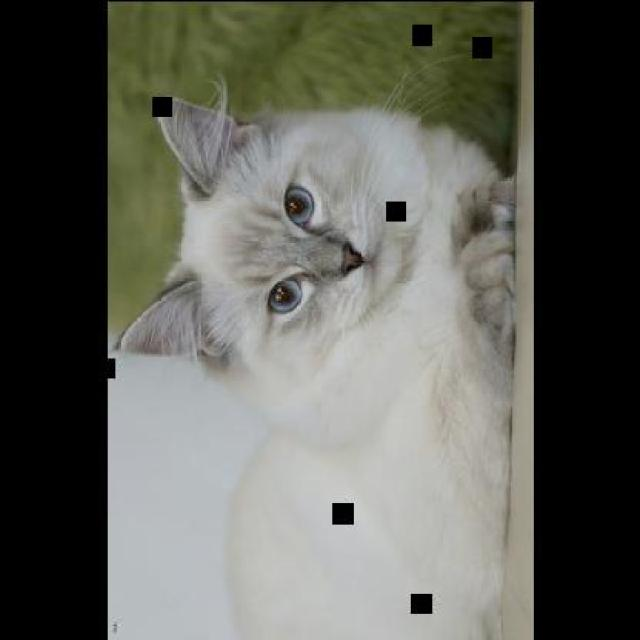unauthorized: (112, 59, 516, 638)
